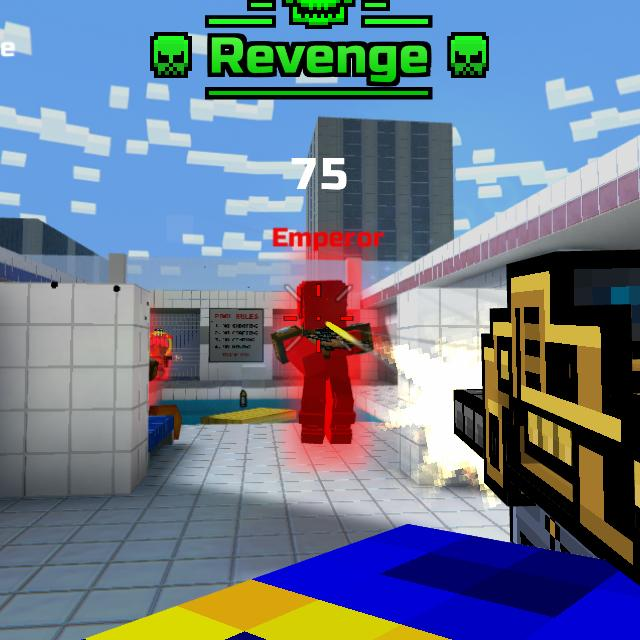Enemy: (275, 275, 377, 444), (151, 343, 173, 376), (149, 346, 163, 378)
